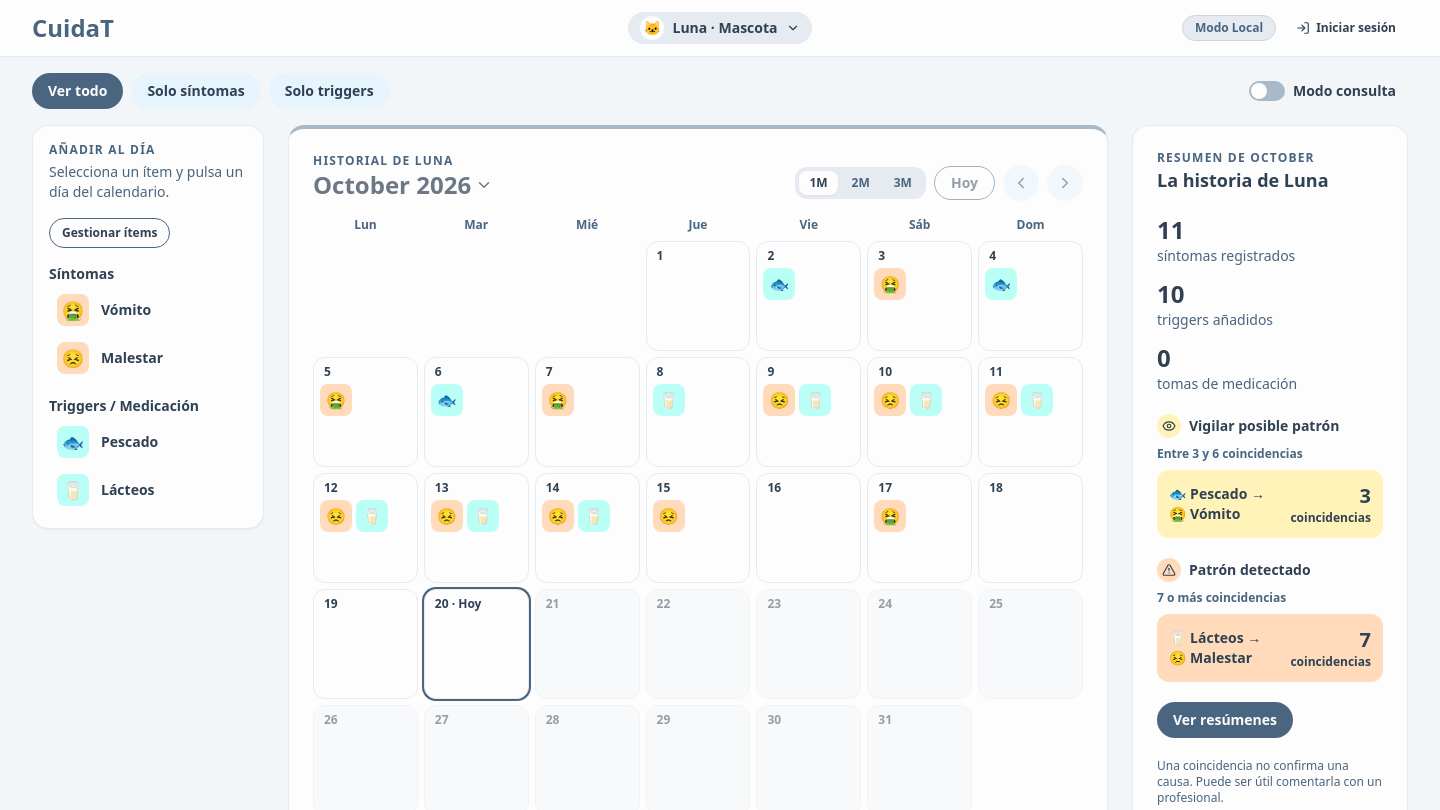
Scenario: App (Phase 4.5: consultation mode) › keeps calendar switching but hides calendar editing
Click the switch labelled "Modo consulta".
click(1322, 91)  # box [1237,73,1408,109]
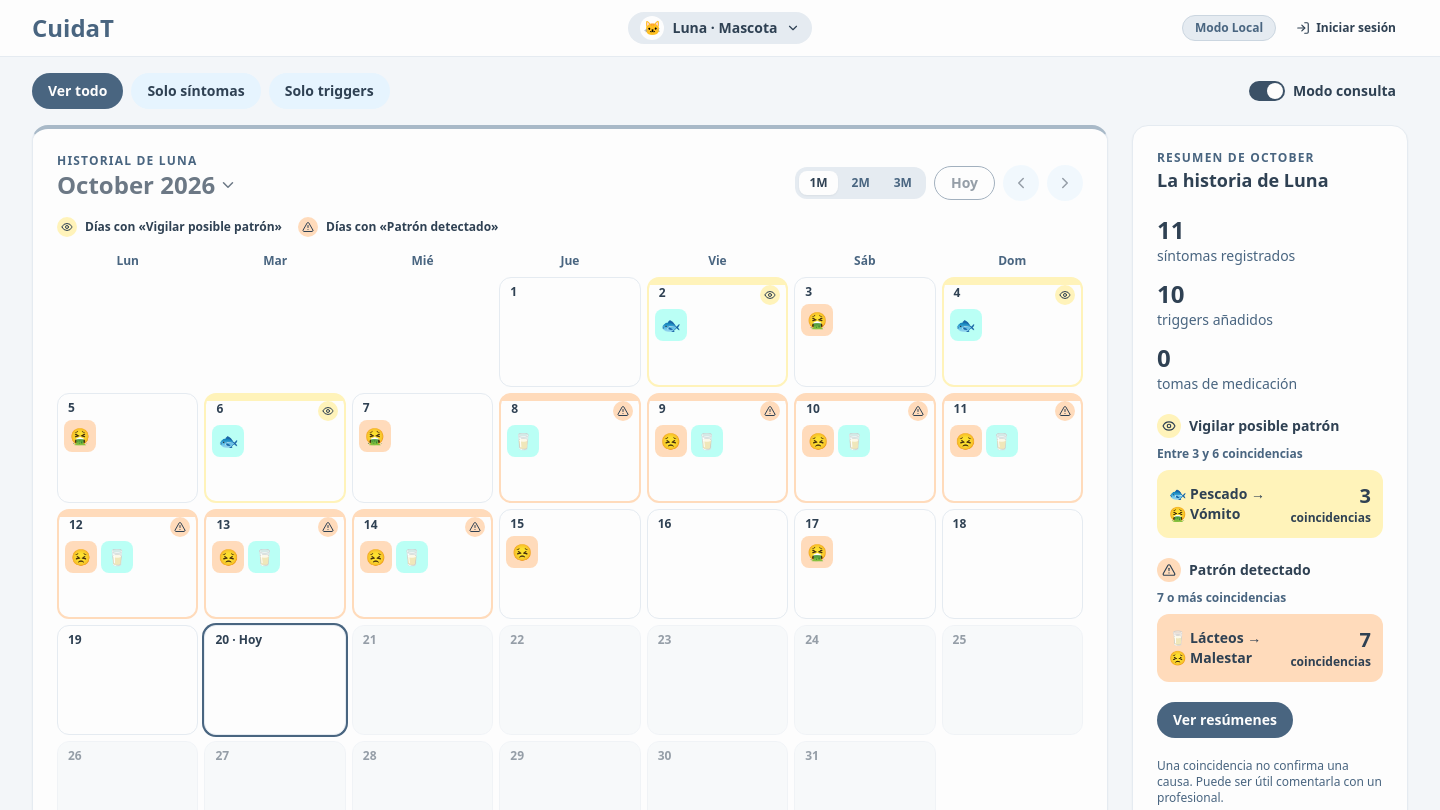
Click the button "🐱 Luna · Mascota".
click(720, 28)  # box [628,12,812,44]
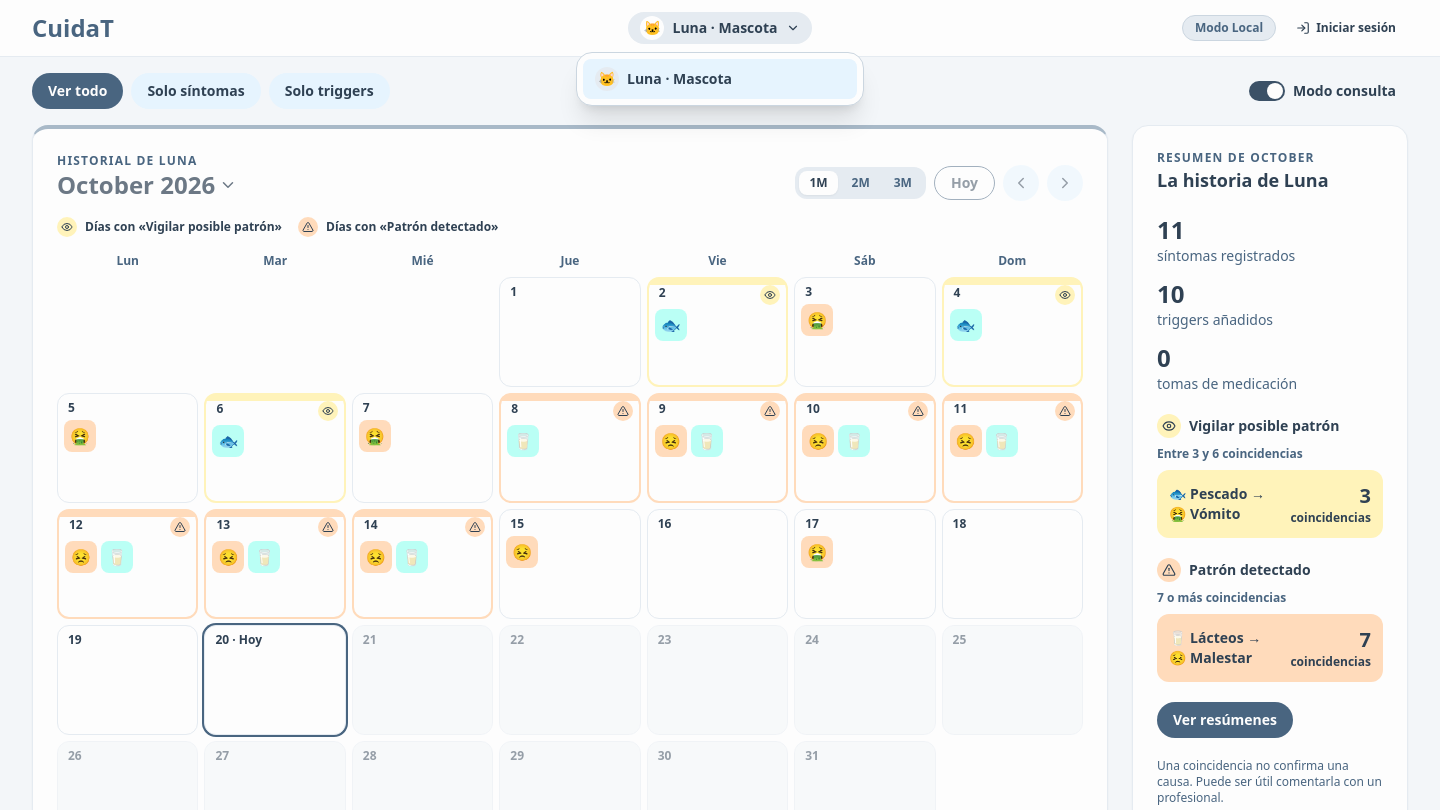
Expected: the list named "Tus calendarios" is shown, [583,59,857,99]
